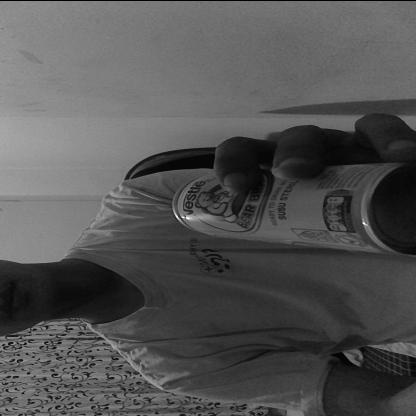alumunium_can: (170, 158, 411, 248)
